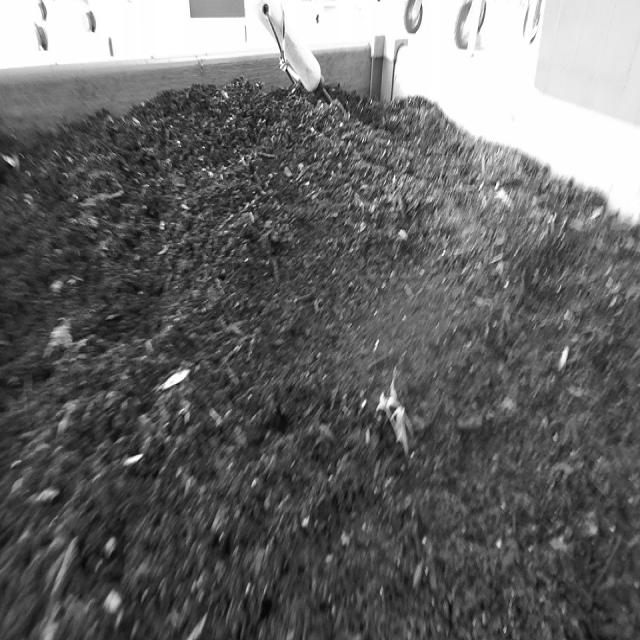Unhealthy: (371, 359, 417, 460)
